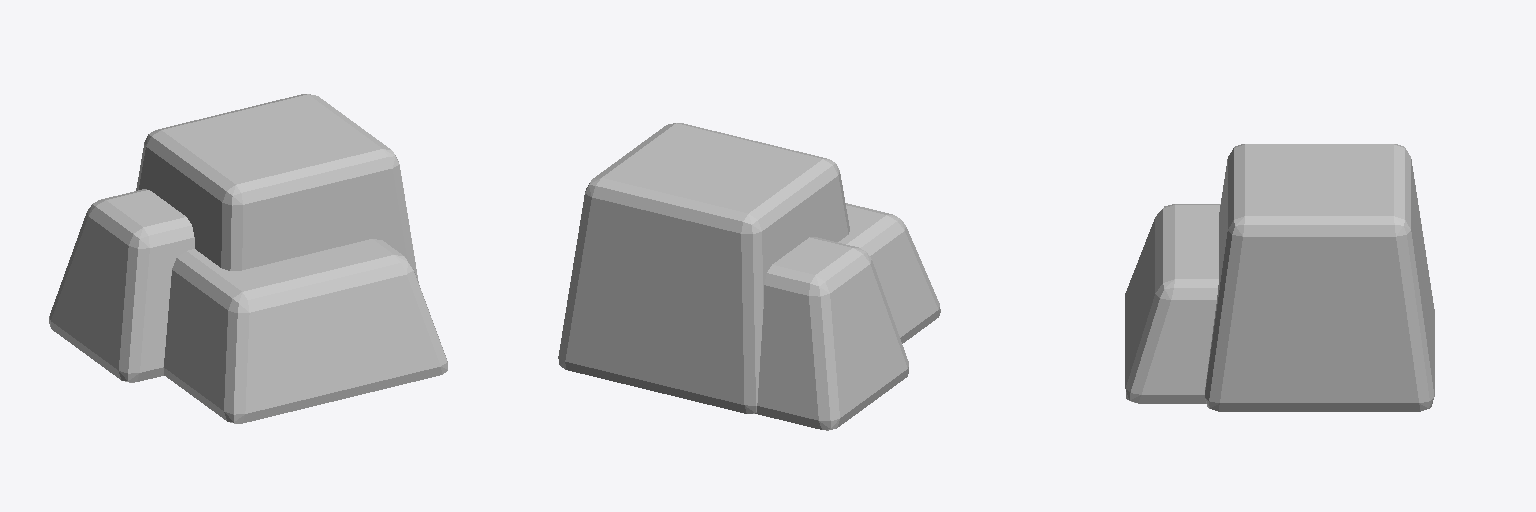
The model's file is Rock2.obj.
3 views of the same model, side by side, from view 1: azimuth 30°, elevation 25°; view 2: azimuth 150°, elevation 25°; view 3: azimuth 270°, elevation 25° (orthographic).
Visible parts, largest first — view 1: Rock2_Cube.089; view 2: Rock2_Cube.089; view 3: Rock2_Cube.089.
Part boxes in pixels (left/top/right/bottom): Rock2_Cube.089: left=49, top=94, right=447, bottom=423; Rock2_Cube.089: left=558, top=123, right=940, bottom=430; Rock2_Cube.089: left=1125, top=144, right=1434, bottom=411.
Bounding box in the file's own units: 1.27 × 0.8163 × 1.23.